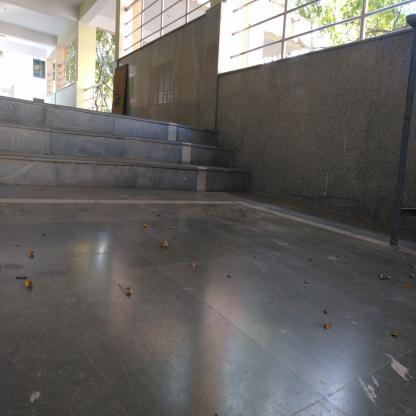stairs: (9, 125, 203, 190)
